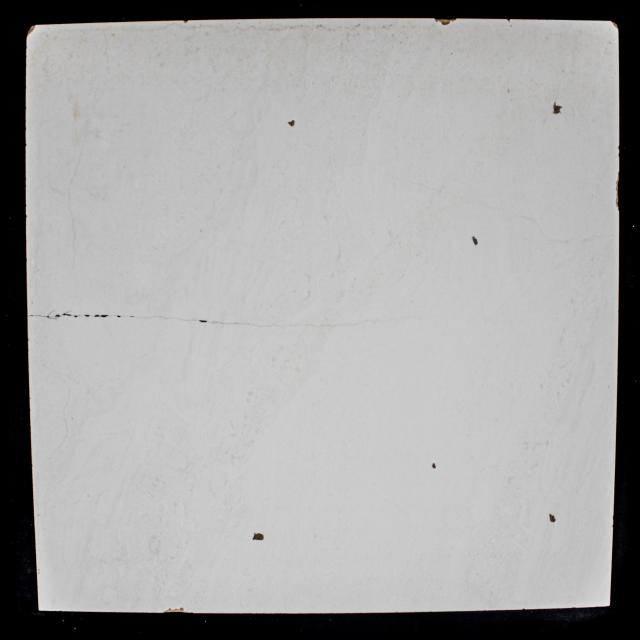edge-chipping: (162, 607, 185, 614), (434, 18, 457, 25), (615, 178, 620, 208), (26, 24, 36, 36), (611, 20, 619, 30), (182, 20, 190, 24)
hole: (552, 101, 563, 114), (252, 532, 264, 541), (95, 312, 110, 318), (549, 514, 557, 523), (472, 235, 478, 246), (288, 119, 296, 127), (198, 317, 207, 324), (62, 312, 71, 317), (55, 312, 61, 318), (85, 313, 90, 318), (432, 464, 436, 469)
line: (254, 321, 380, 328), (134, 316, 194, 322), (211, 319, 252, 326), (26, 310, 54, 319)
